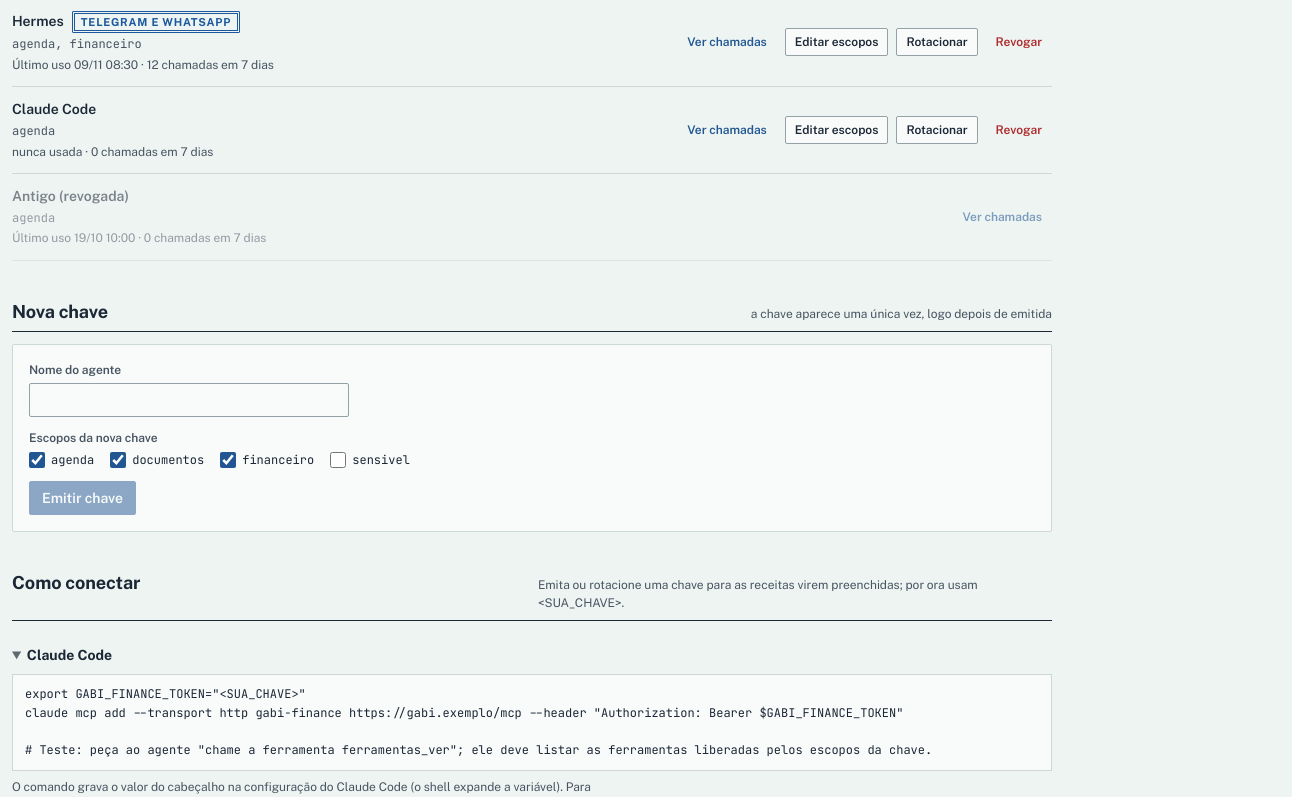
Scenario: falha ao copiar mostra mensagem curta
(page scrolled)
Expected: the text "Hermes" is shown, [12,12,64,32]
Type "Novo" into the field labelled "Nome do agente".
click(189, 400); type("Novo")  # box [29,383,349,417]
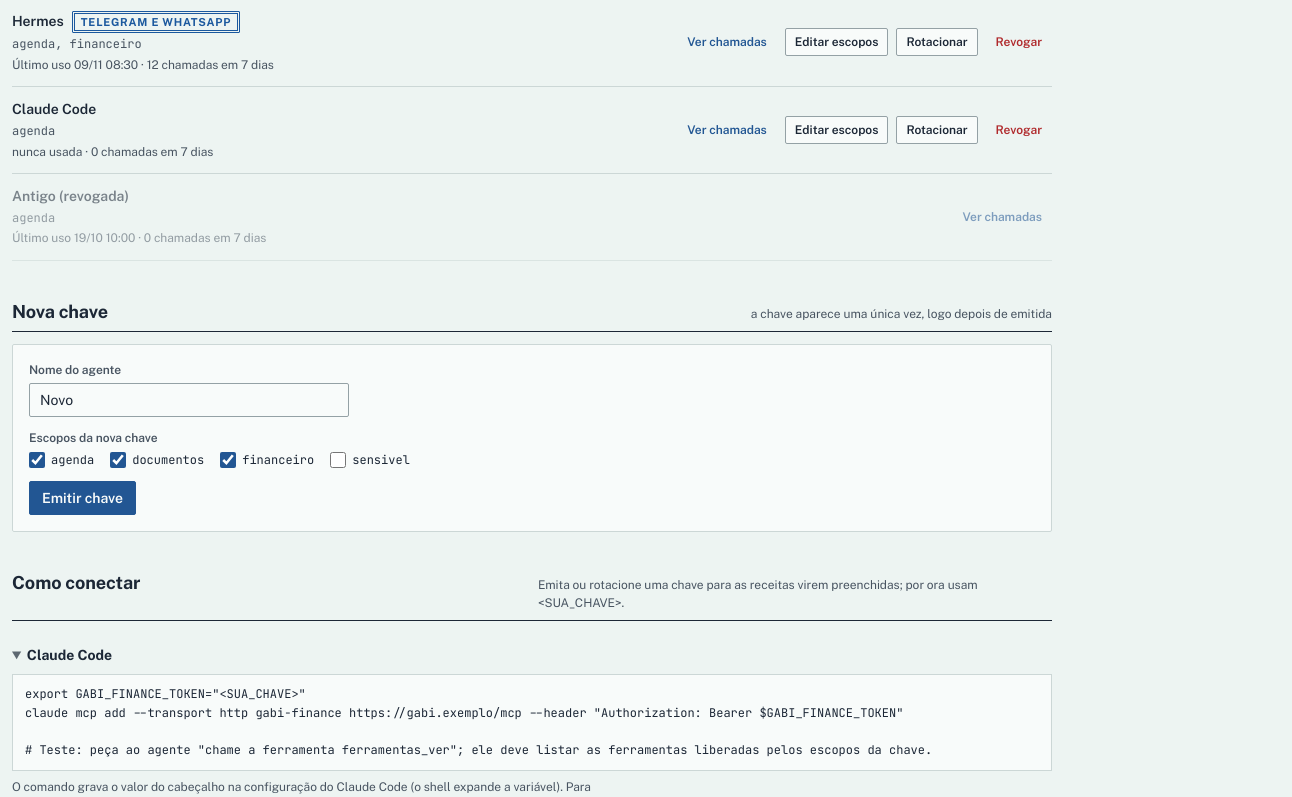
Click the button "Emitir chave".
click(83, 498)  # box [29,481,136,515]
(page scrolled)
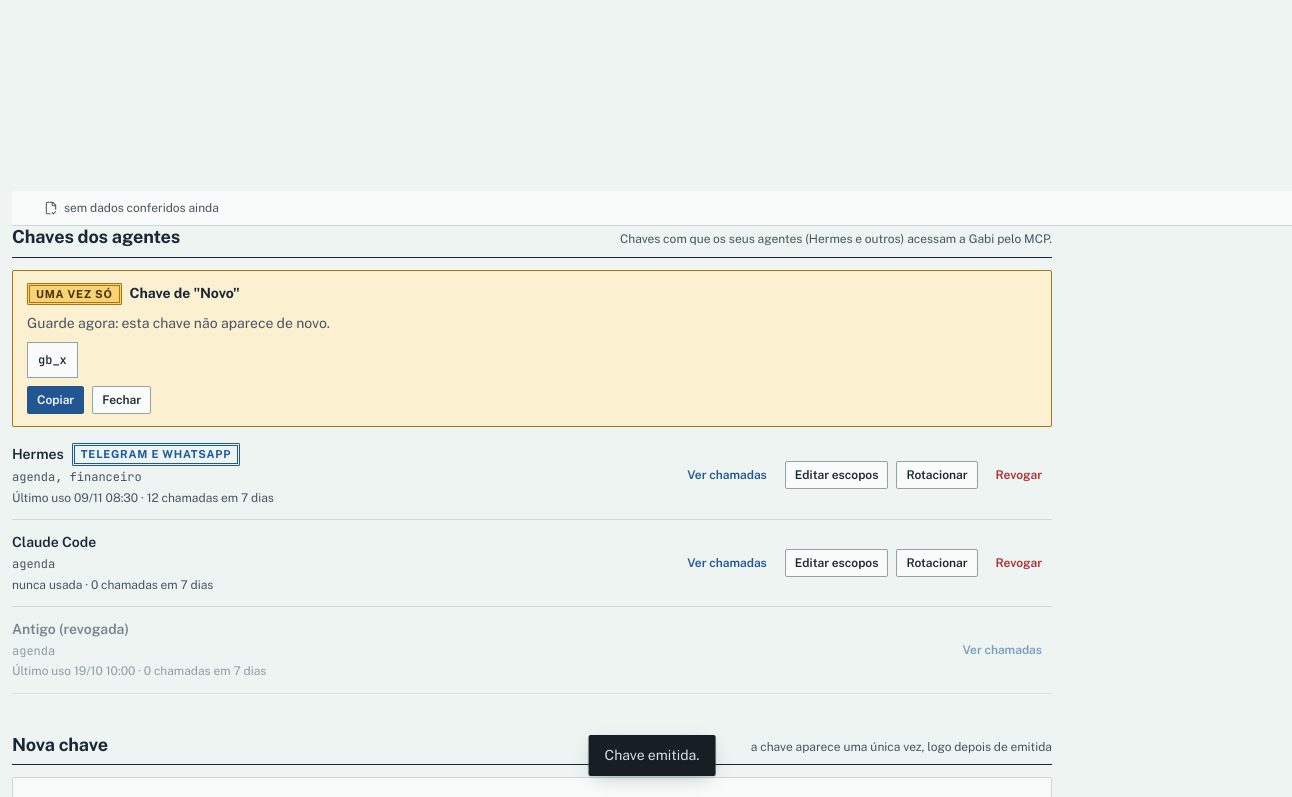
Result: the text "gb_x" is shown at [27,342,78,378]
Click the button with aria-label "Copiar chave".
click(56, 400)  # box [27,386,84,414]
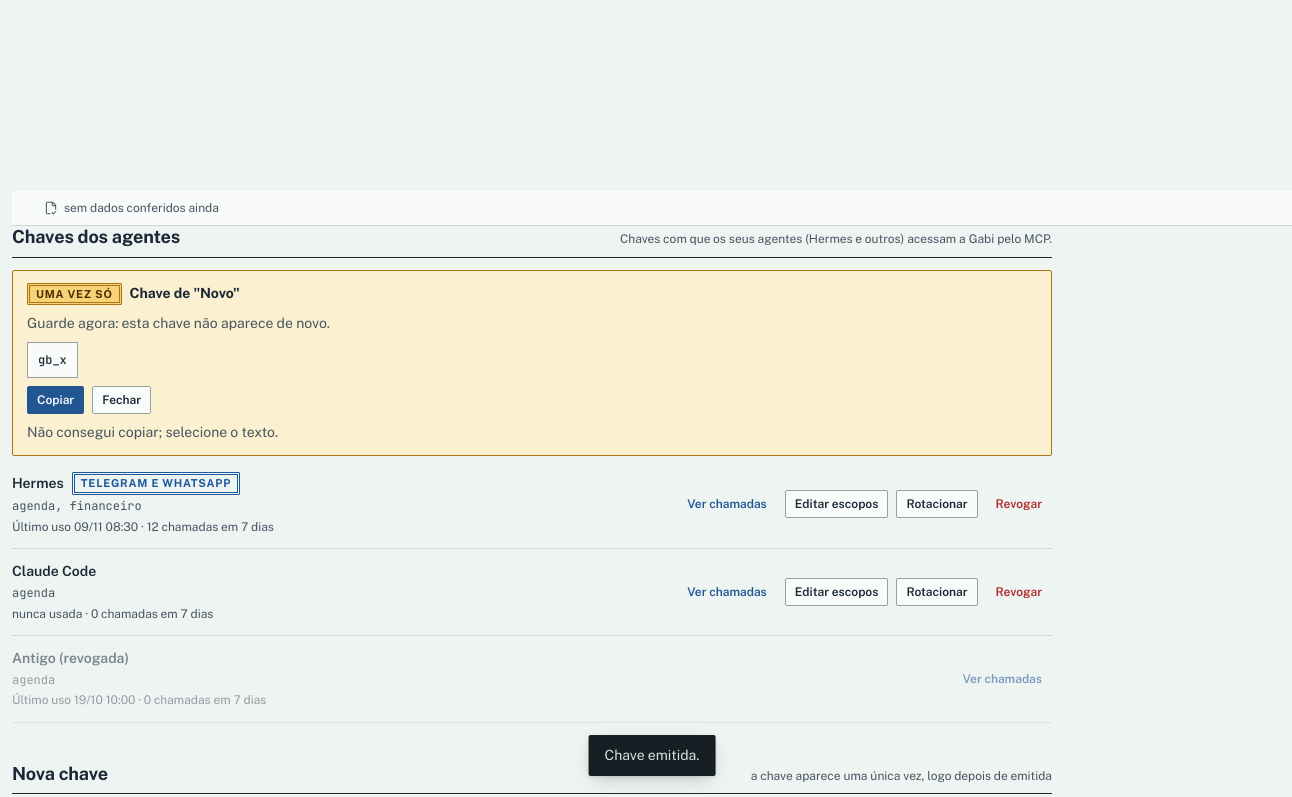
Result: the text "Não consegui copiar; selecione o texto." is shown at [27,422,278,443]
